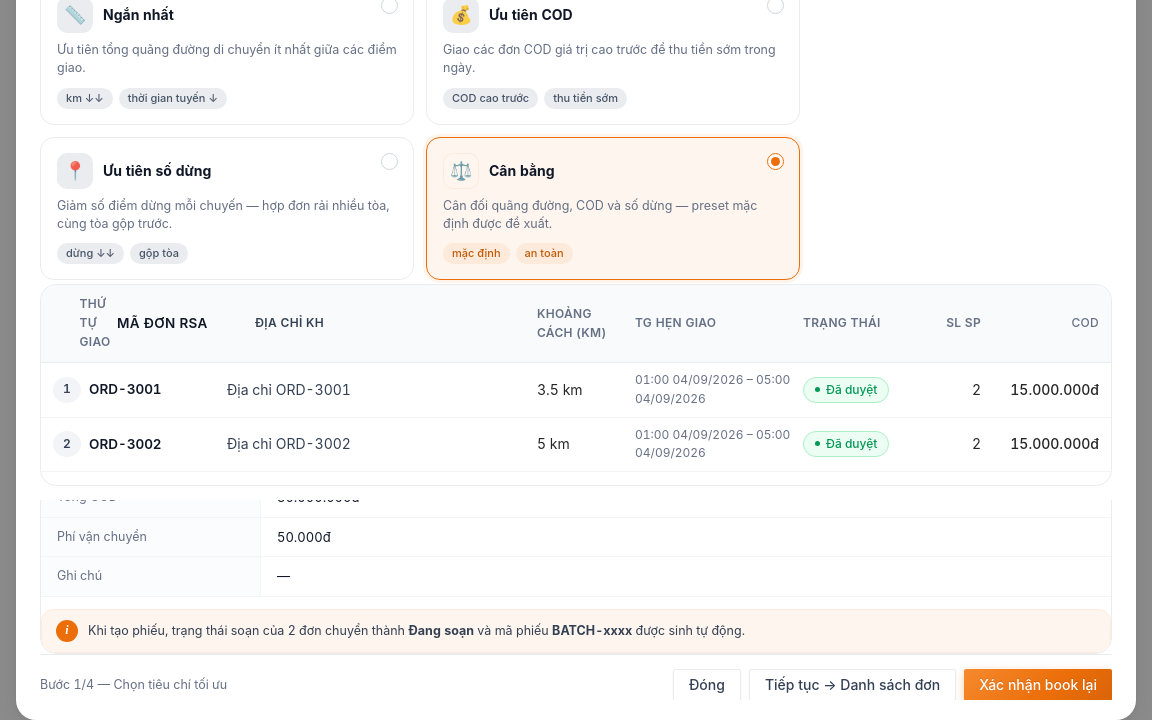
Test case: CreateBatchingModal › SF-16 T6: rebook submit — KHÔNG createBatch; confirmPlanning batchCode hiện có (chỉ entries) + createBooking
(page scrolled)
Click the button with test id "batch-submit".
click(1038, 685)  # box x1=964 y1=669 x2=1112 y2=701
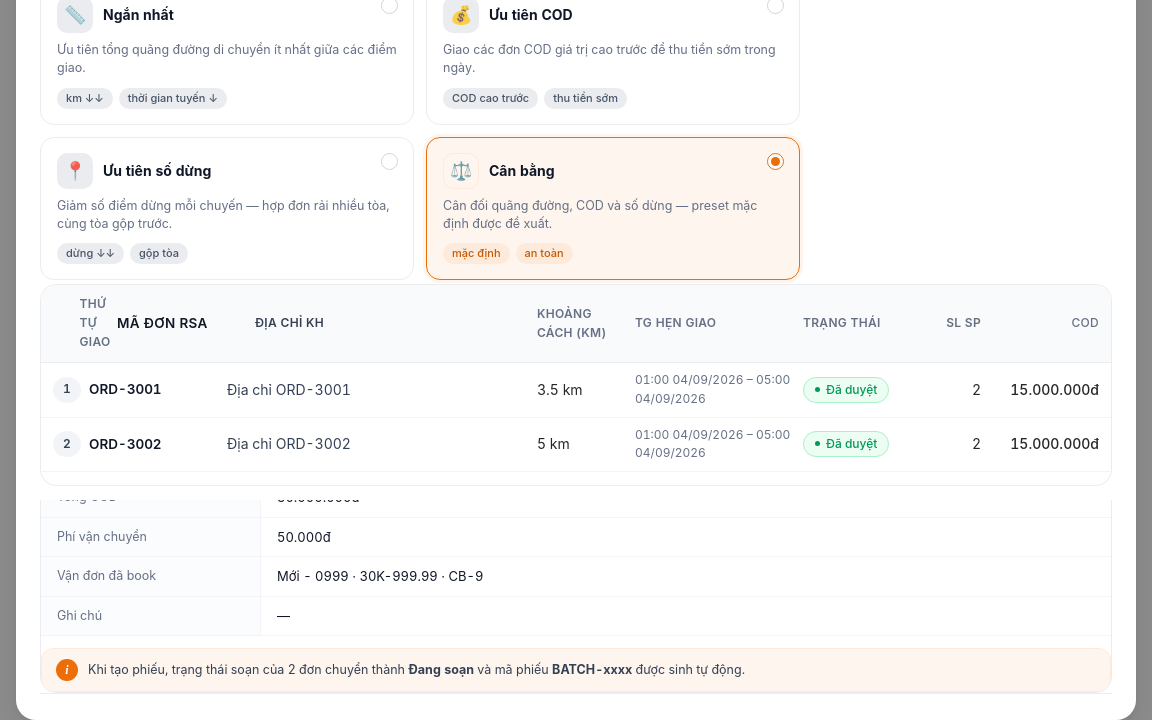
Now the element with test id "review-booking" shows "CB-9", box x1=277 y1=568 x2=483 y2=584
